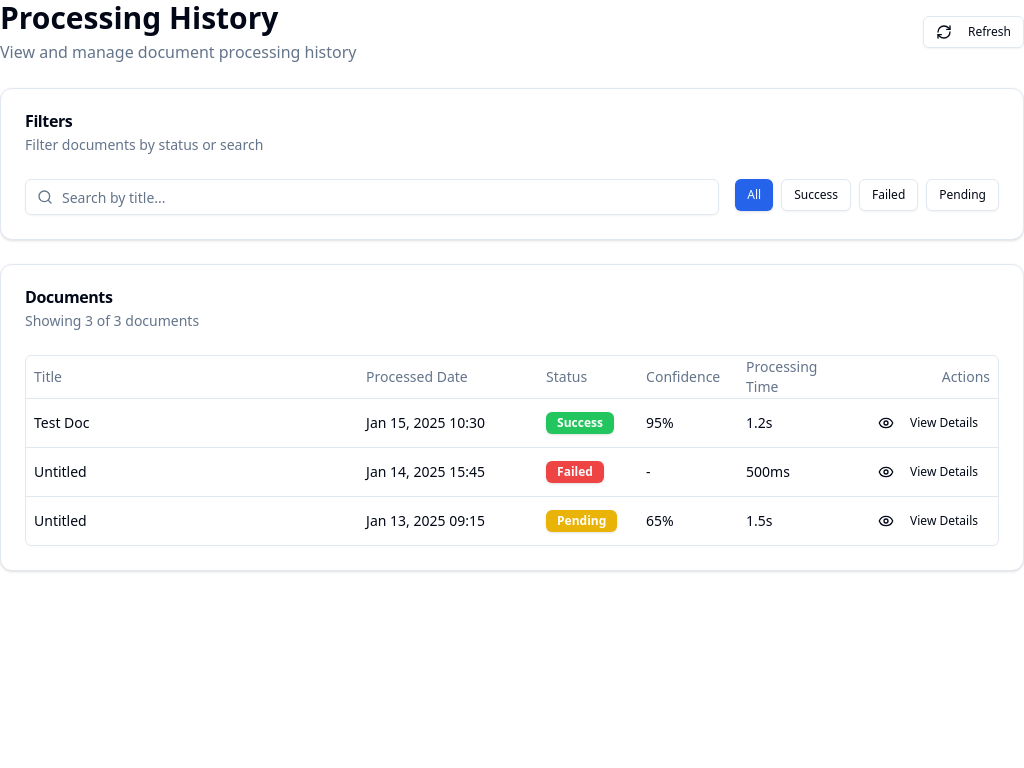
Scenario: HistoryPage › shows suggested data in detail dialog
This screenshot has width=1024, height=768.
Click the button "View Details" in the row of "Test Doc" at coordinates (928, 423), box [866, 407, 990, 439]
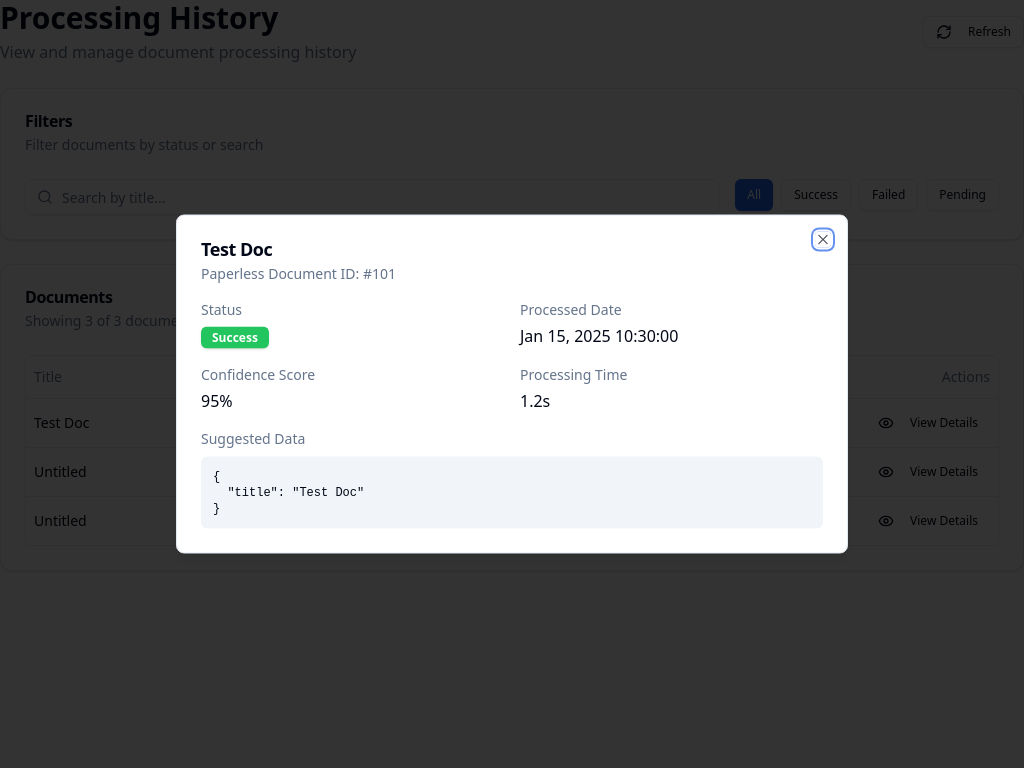
Expected: the text "Suggested Data" is shown, [201, 428, 305, 448]
Expected: the text "{ \"title\": \"Test Doc\" }" is shown, [201, 456, 823, 528]
